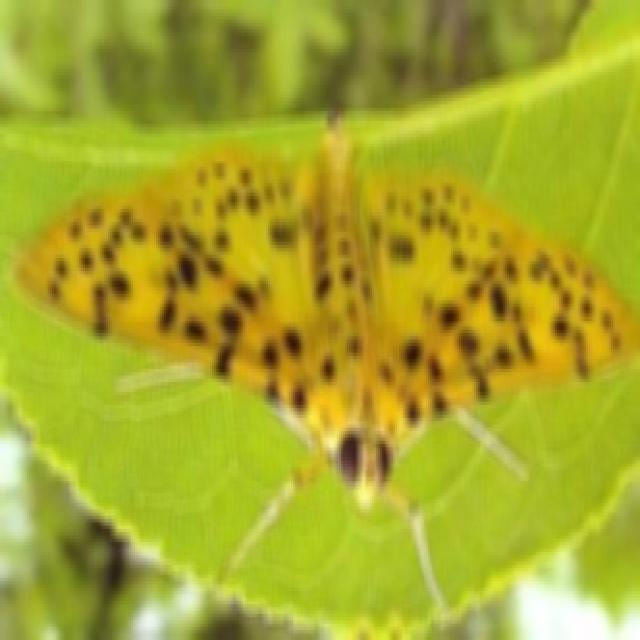peach borer: (4, 112, 638, 510)
